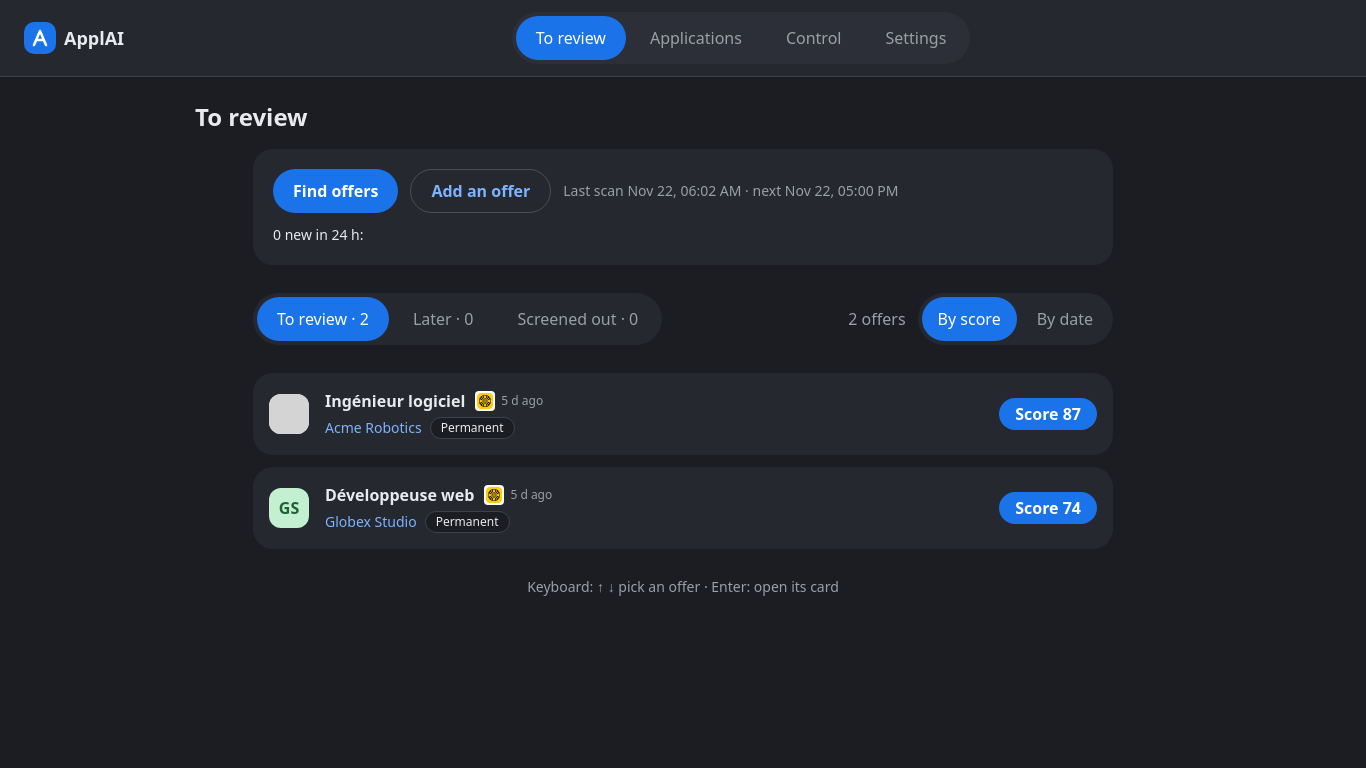
Scenario: a card › shows every field of the result, in en
This screenshot has width=1366, height=768.
Click the button "Ingénieur logiciel 5 d ago Acme Robotics Permanent Score 87" at (289, 414), box [253,373,1113,455]
(page scrolled)
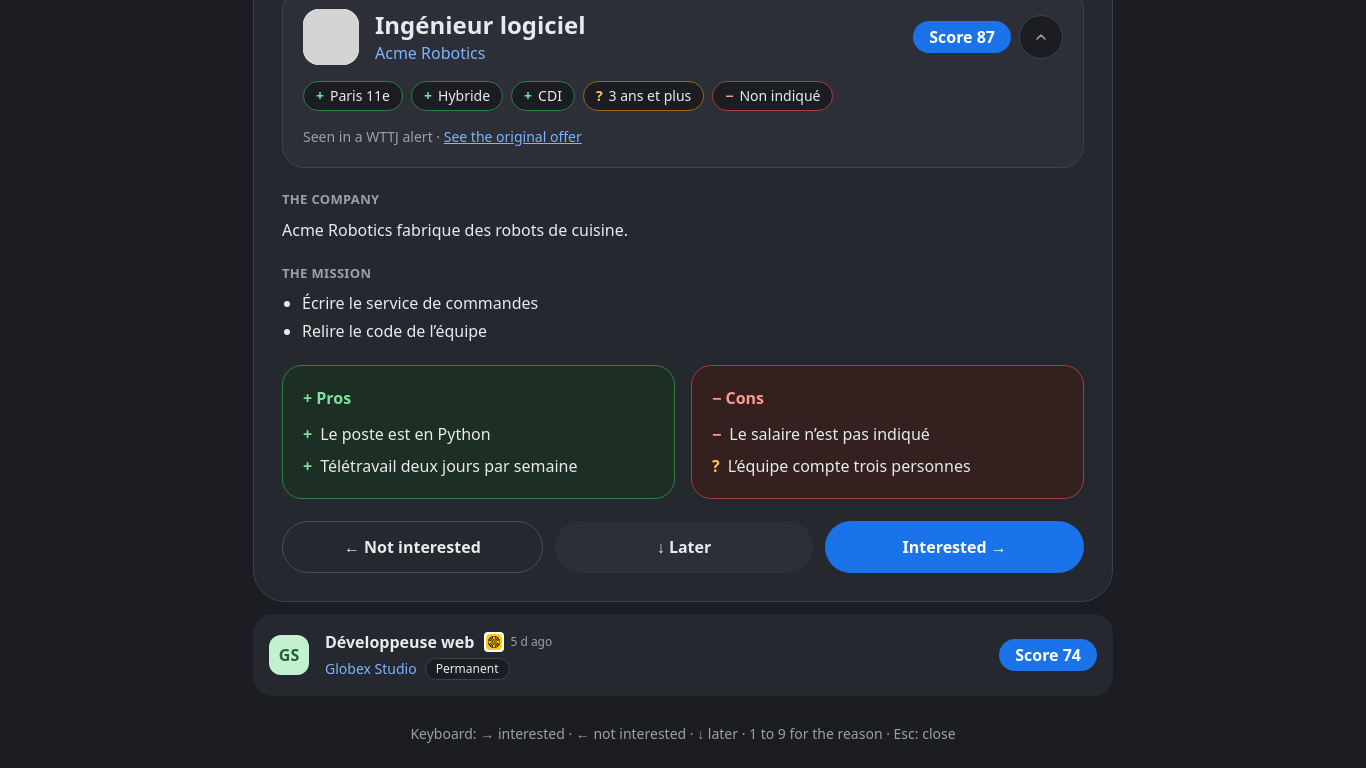
Result: the text "Acme Robotics" is shown at [375,42,486,64]
Result: the text "Paris 11e" is shown at [330,86,390,106]
Result: the text "Hybride" is shown at [438,86,490,106]
